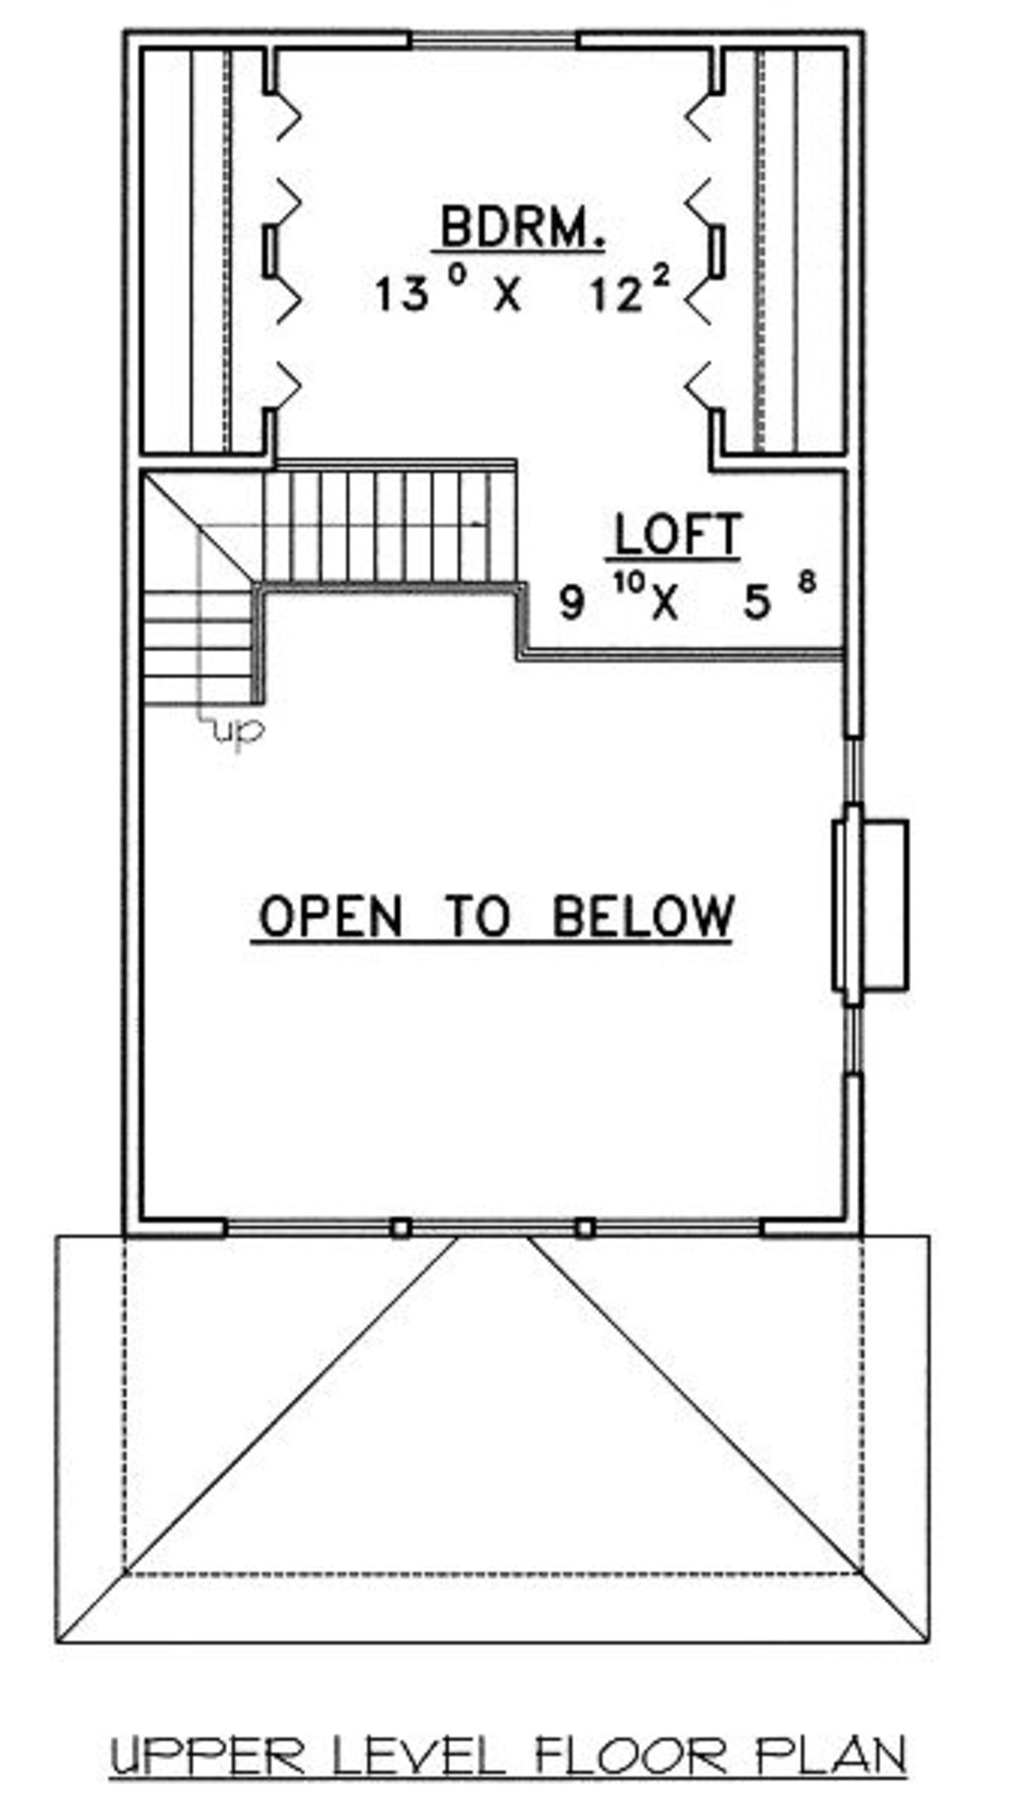stairs: (145, 443, 525, 746)
window: (202, 1200, 770, 1263), (408, 14, 596, 63), (811, 974, 885, 1086), (830, 707, 910, 810)
